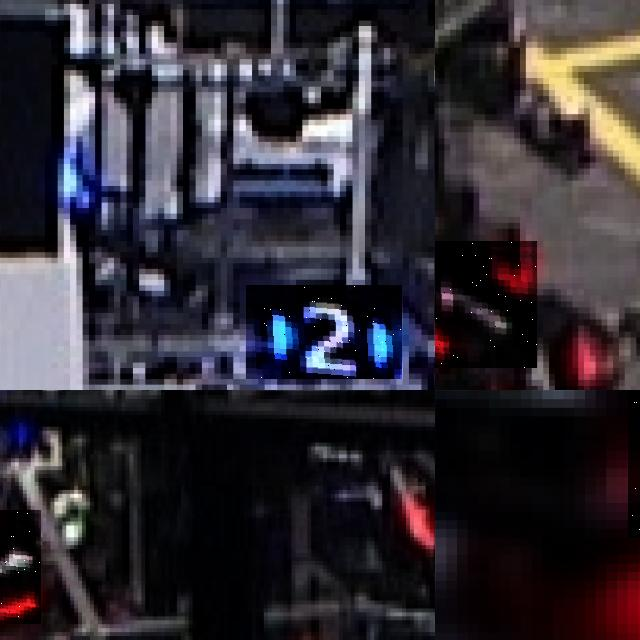B2: (246, 285, 402, 379)
R1: (435, 241, 537, 368), (479, 325, 618, 390), (0, 509, 40, 624)
